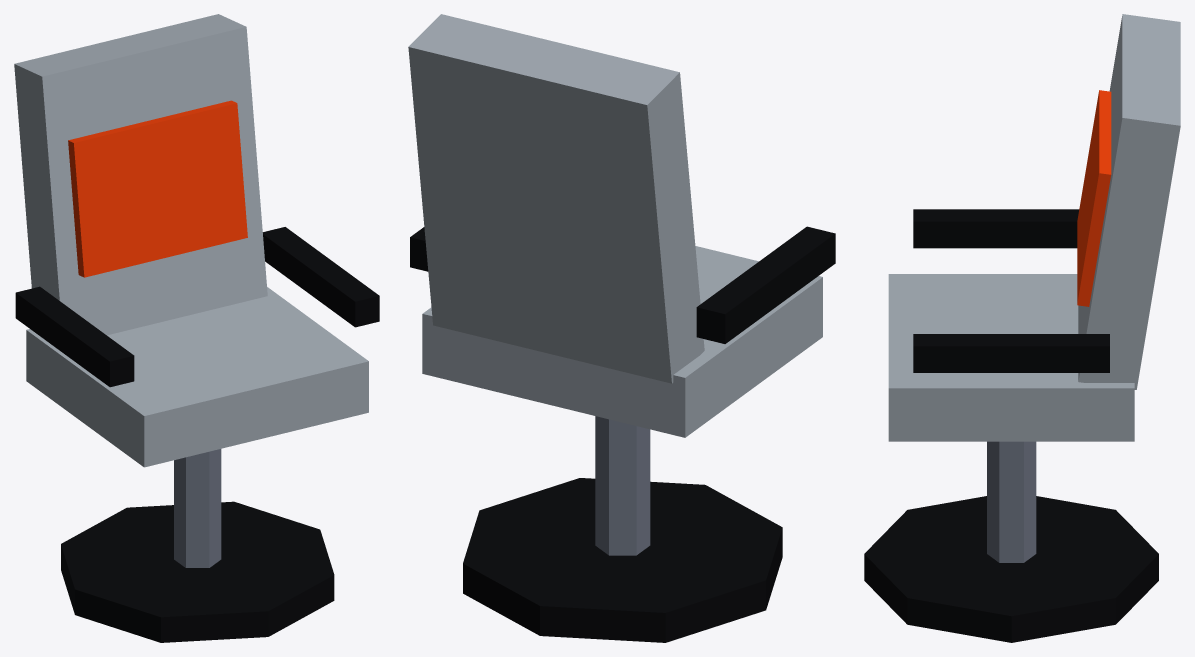
Rendered from console_chair.obj.
3 renders of one model, left to right at view 1: azimuth 30°, elevation 25°; view 2: azimuth 150°, elevation 25°; view 3: azimuth 270°, elevation 25°, orthographic. The views are drawn at different scales.
Visible parts, largest first — view 1: console_chair; view 2: console_chair; view 3: console_chair.
Boxes of the visible parts, left/top/right/bottom form: console_chair: left=14, top=14, right=379, bottom=642; console_chair: left=408, top=14, right=835, bottom=642; console_chair: left=864, top=14, right=1180, bottom=642.
Bounding box in the file's own units: 0.66 × 1.16 × 0.6442.
